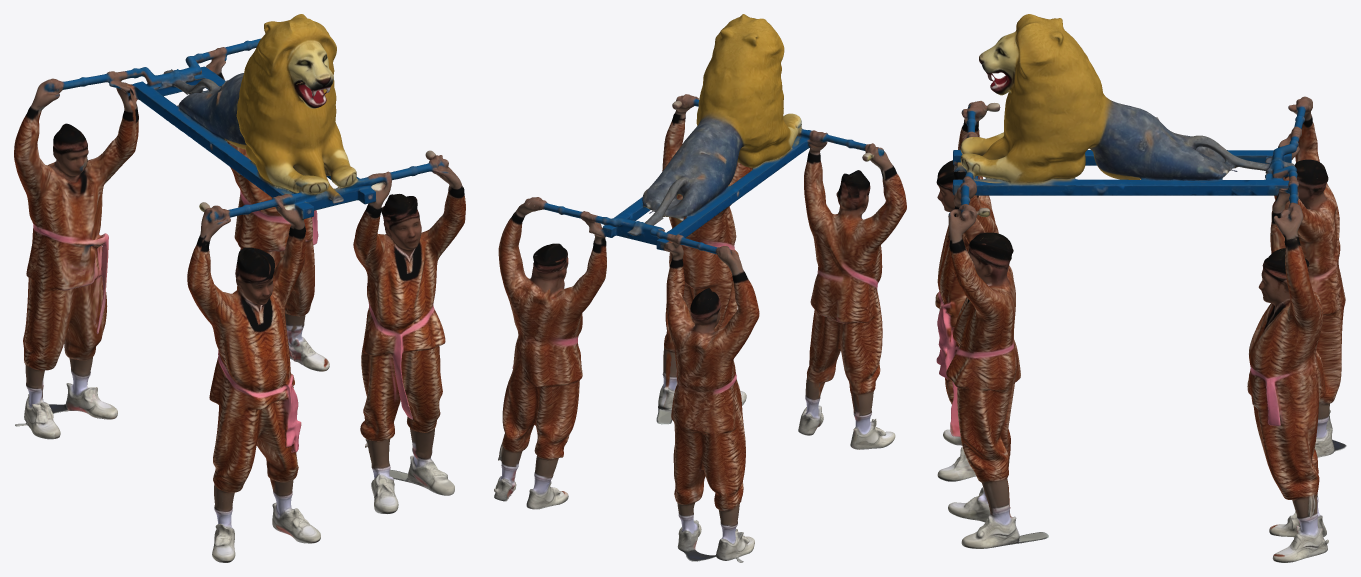
The model's file is angkat sisingaan.glb.
3 renders of one model, left to right at view 1: azimuth 30°, elevation 25°; view 2: azimuth 150°, elevation 25°; view 3: azimuth 270°, elevation 25°, orthographic. The views are drawn at different scales.
Visible parts, largest first — view 1: mesh_node; view 2: mesh_node; view 3: mesh_node.
Boxes of the visible parts, box(x1,y1,x2,y2) form: mesh_node: box(14, 14, 465, 562); mesh_node: box(494, 14, 906, 562); mesh_node: box(935, 14, 1346, 562).
Size of the model in its own units: 1.25 by 1.9 by 1.48.
1 material, 1 textured.
